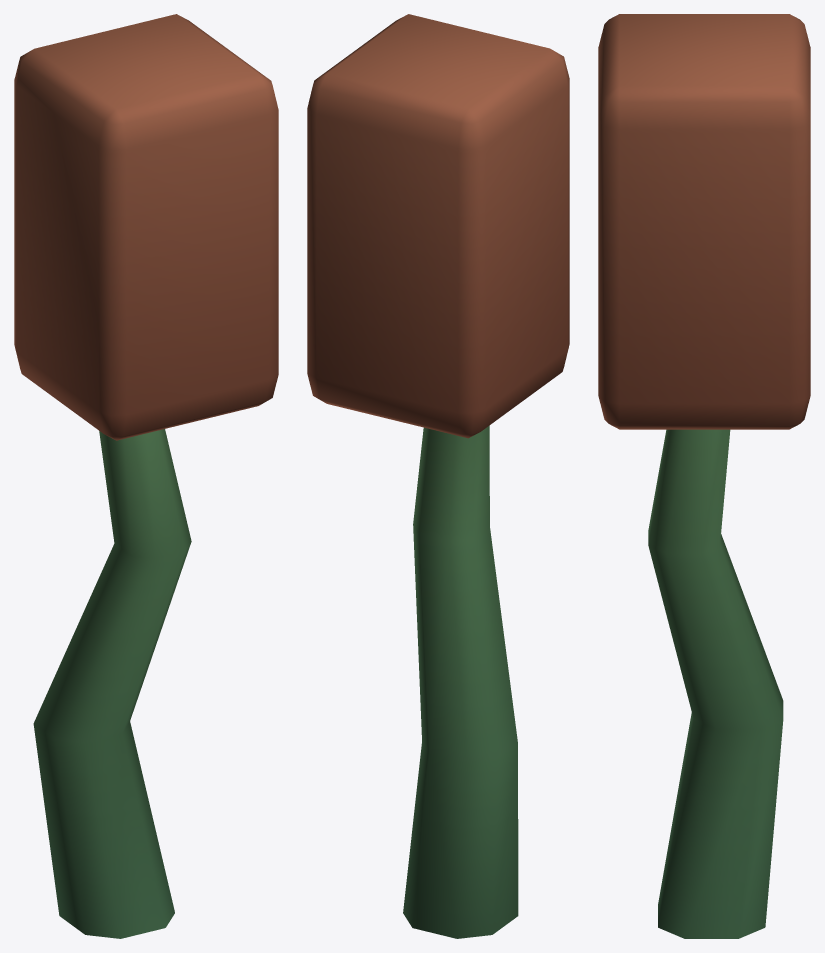
File: kamish.glb
3 renders of one model, left to right at view 1: azimuth 30°, elevation 25°; view 2: azimuth 150°, elevation 25°; view 3: azimuth 270°, elevation 25°, orthographic. The views are drawn at different scales.
Parts seen in each view (by area): view 1: Node1; view 2: Node1; view 3: Node1.
Boxes of the visible parts, x1,y1,x2,y2 form: Node1: (14,14,278,938); Node1: (307,14,569,938); Node1: (598,14,810,938).
Bounding box in the file's own units: 0.0989 × 0.4514 × 0.0989.
1 material, 1 textured.
